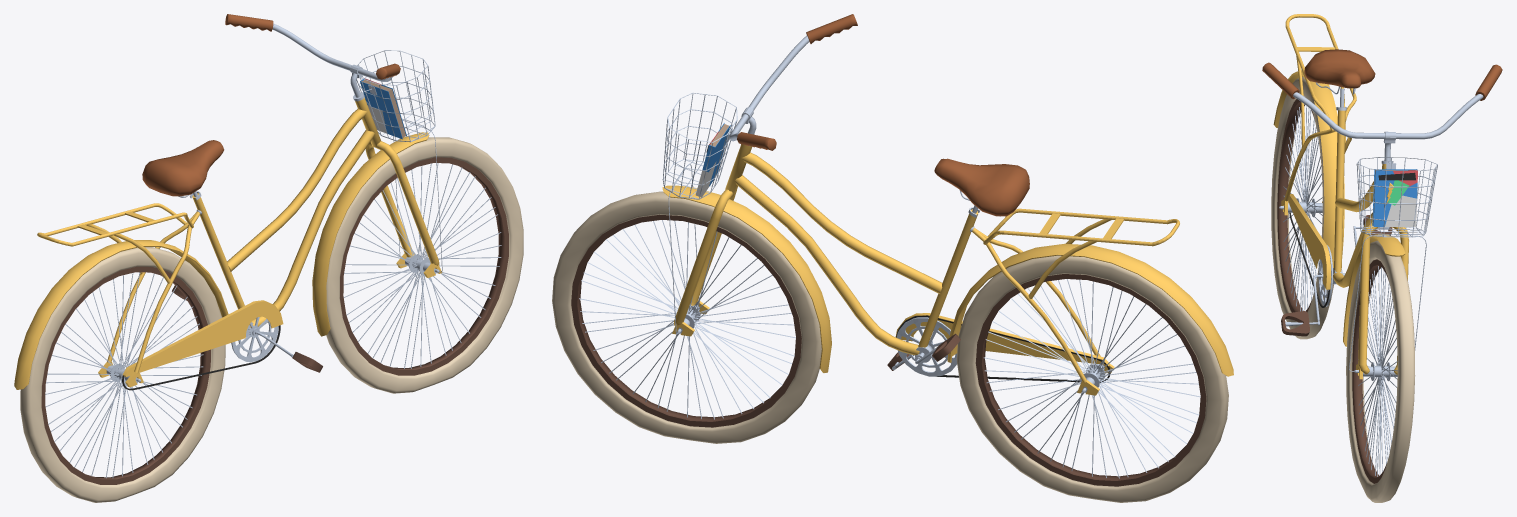
The model's file is bycicle.fbx.
3 views of the same model, side by side, from view 1: azimuth 30°, elevation 25°; view 2: azimuth 150°, elevation 25°; view 3: azimuth 270°, elevation 25° (orthographic). The views are drawn at different scales.
Parts seen in each view (by area): view 1: Cylinder.018, Cylinder.017, Cylinder.019, Cylinder.001, Circle.004, Cube.005, Cylinder.010, Cylinder.007, Cylinder.020, Cylinder.015, Cube.007, Cylinder.011 (+5 smaller); view 2: Cylinder.018, Cylinder.017, Cylinder.019, Cube.005, Cylinder.001, Cylinder.010, Cylinder.007, Cylinder.015, Circle.004, Cylinder.020, Cube, Cylinder.011 (+5 smaller); view 3: Cylinder.018, Cylinder.017, Cylinder.019, Cube.007, Cylinder.015, Cube.005, Cylinder.020, Vert, Circle.004, Cylinder.005, Cylinder.001, Cylinder.013 (+22 smaller).
Part boxes in pixels (x1,y1,x2,y2): Cylinder.018: (326,137,523,393); Cylinder.017: (20,247,225,502); Cylinder.019: (14,240,228,389); Cylinder.001: (312,132,429,336); Circle.004: (122,300,283,376); Cube.005: (142,140,224,196); Cylinder.010: (251,130,374,326); Cylinder.007: (227,109,367,271); Cylinder.020: (365,141,439,268); Cylinder.015: (356,50,435,142); Cube.007: (360,78,406,139); Cylinder.011: (107,211,200,373); Cylinder.018: (552,191,821,443); Cylinder.017: (956,255,1228,502); Cylinder.019: (947,243,1233,376); Cube.005: (934,158,1029,216); Cylinder.001: (662,185,831,372); Cylinder.010: (735,175,919,355); Cylinder.007: (742,152,942,293); Cylinder.015: (662,92,737,199); Circle.004: (895,313,1109,366); Cylinder.020: (674,189,736,327); Cube: (983,208,1179,246); Cylinder.011: (972,228,1100,383); Cylinder.018: (1346,240,1415,502); Cylinder.017: (1271,77,1333,339); Cylinder.019: (1273,70,1344,267); Cube.007: (1372,169,1417,226); Cylinder.015: (1356,157,1437,237); Cube.005: (1304,49,1375,88); Cylinder.020: (1358,222,1408,374); Vert: (1293,92,1483,139); Circle.004: (1288,194,1331,289); Cylinder.005: (1334,110,1345,272); Cylinder.001: (1343,233,1405,346); Cylinder.013: (1262,62,1502,100).
Bounding box in the file's own units: 497 × 317 × 183.
